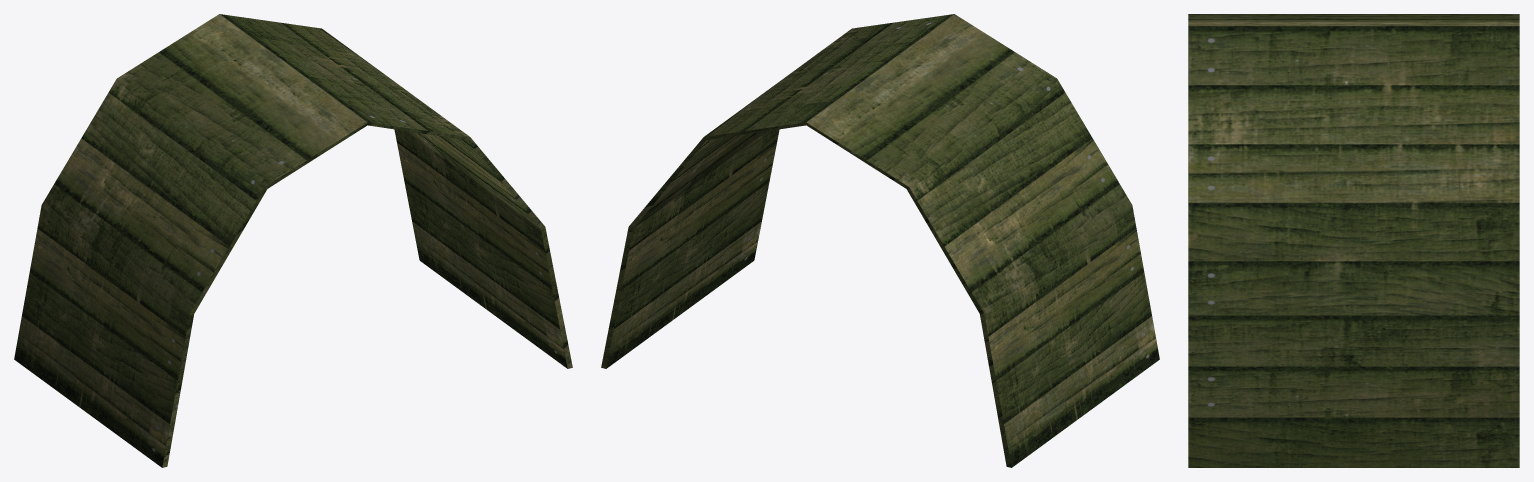
File: OuterTunnel.fbx
3 renders of one model, left to right at view 1: azimuth 30°, elevation 25°; view 2: azimuth 150°, elevation 25°; view 3: azimuth 270°, elevation 25°, orthographic. The views are drawn at different scales.
Parts seen in each view (by area): view 1: Arch (1); view 2: Arch (1); view 3: Arch (1).
Part boxes in pixels (left/top/right/bottom): Arch (1): left=14, top=14, right=572, bottom=467; Arch (1): left=601, top=14, right=1159, bottom=467; Arch (1): left=1188, top=14, right=1519, bottom=467.
Bounding box in the file's own units: 800 × 550 × 500.
